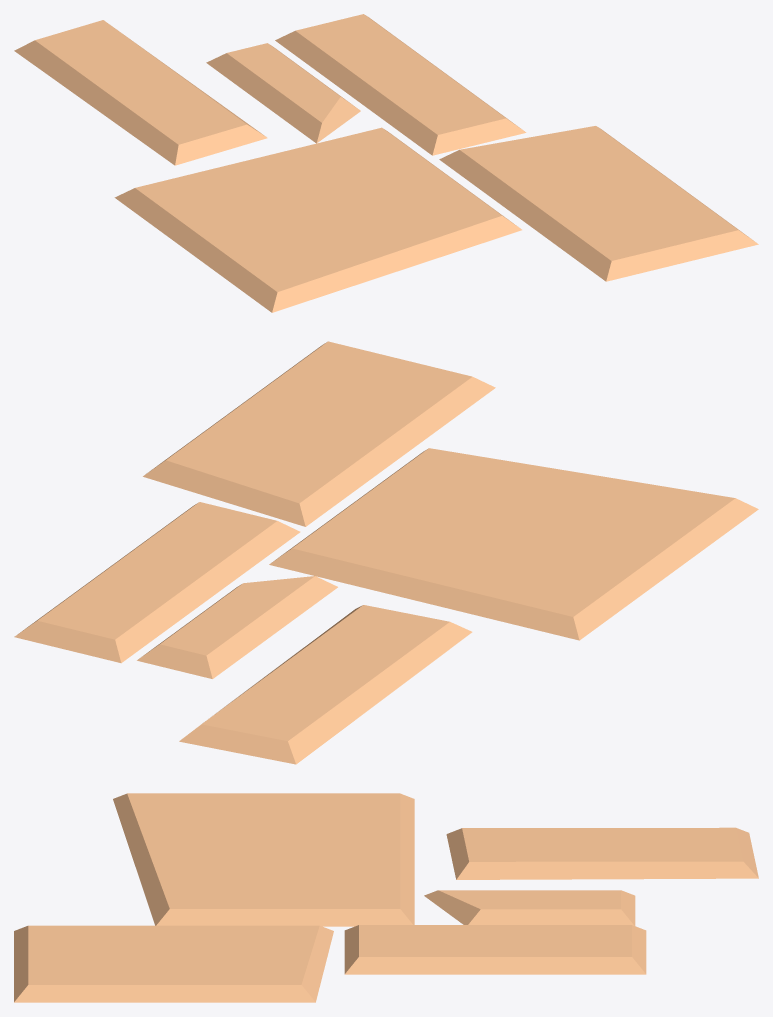
File: Kostki_2.fbx
3 renders of one model, top to bottom at view 1: azimuth 30°, elevation 25°; view 2: azimuth 150°, elevation 25°; view 3: azimuth 270°, elevation 25°, orthographic. The views are drawn at different scales.
Parts seen in each view (by area): view 1: Kostki_2; view 2: Kostki_2; view 3: Kostki_2.
Boxes of the visible parts, box(x1,y1,x2,y2) form: Kostki_2: box(14, 14, 758, 312); Kostki_2: box(14, 341, 758, 764); Kostki_2: box(14, 793, 758, 1002).
Bounding box in the file's own units: 319 × 9.09 × 494.
